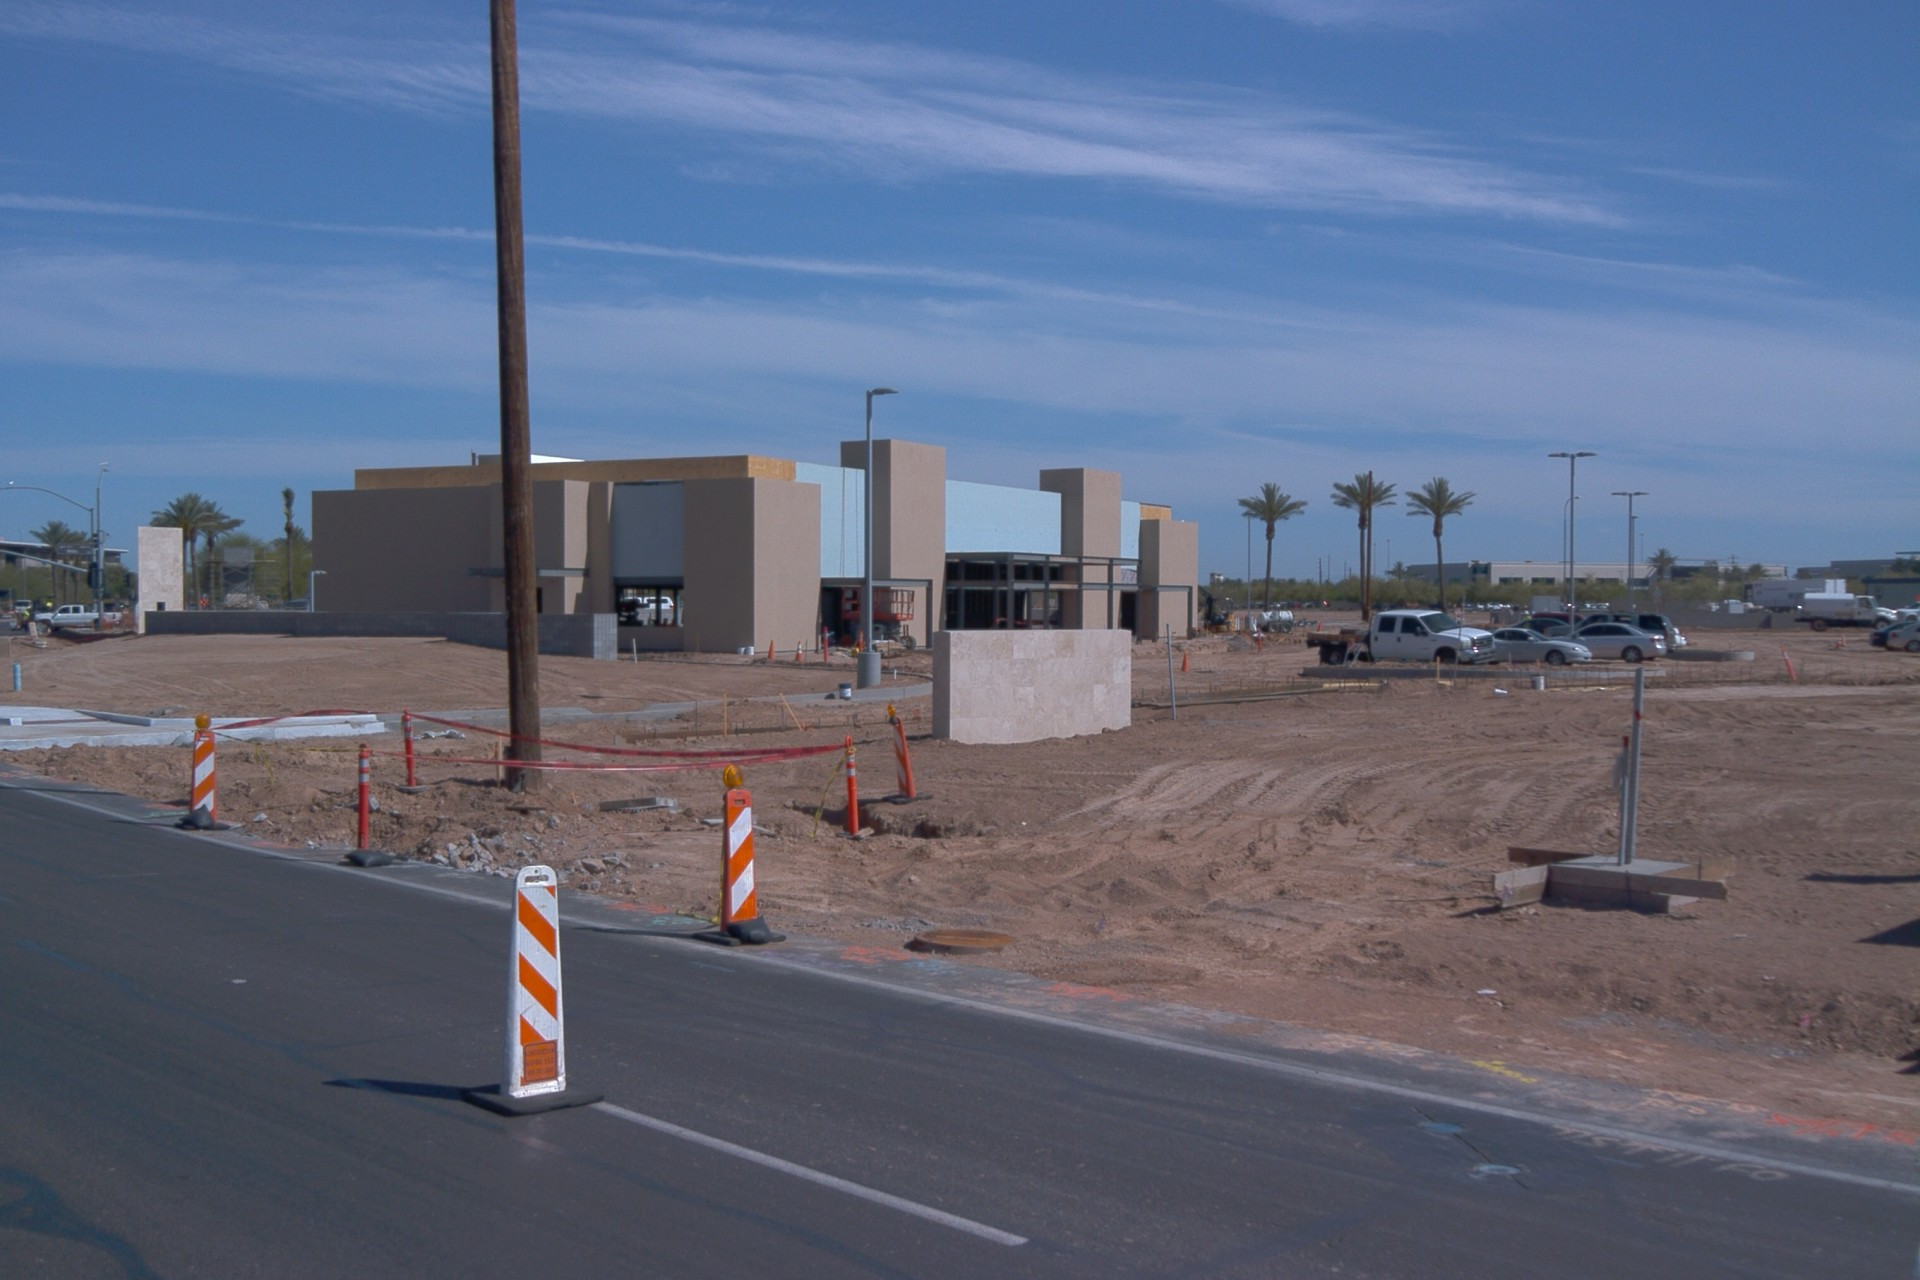TYPE_PEDESTRIAN: (1522, 609, 1533, 621), (24, 602, 30, 620), (1531, 609, 1537, 617)
TYPE_VEHICLE: (1308, 611, 1499, 670), (1537, 611, 1683, 669), (1547, 619, 1668, 664), (1792, 591, 1899, 636), (1491, 623, 1596, 663), (32, 604, 123, 637), (1257, 609, 1323, 634), (1864, 625, 1911, 656), (1884, 622, 1920, 659), (620, 594, 673, 608), (1534, 610, 1587, 624), (283, 591, 312, 611), (1896, 603, 1920, 624), (33, 592, 56, 611), (1487, 601, 1510, 612), (1674, 631, 1685, 650), (1475, 603, 1487, 612)
